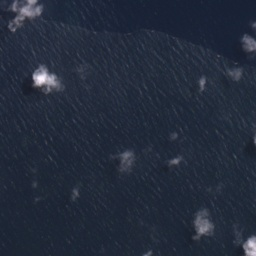Marine Debris: (11, 0, 222, 94), (215, 62, 243, 84)
